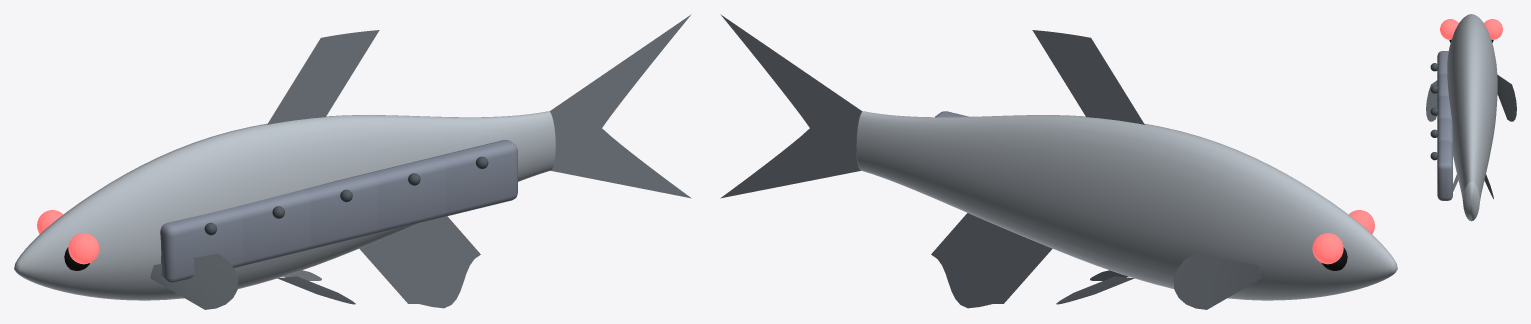
The model's file is robotfish.fbx.
The picture shows the model from 3 angles, left to right: view 1: azimuth 30°, elevation 25°; view 2: azimuth 150°, elevation 25°; view 3: azimuth 270°, elevation 25°; orthographic projection. The views are drawn at different scales.
Visible parts, largest first — view 1: RobotFish; view 2: RobotFish; view 3: RobotFish.
Boxes of the visible parts, bbox=[...] form: RobotFish: bbox=[14, 14, 691, 309]; RobotFish: bbox=[720, 14, 1397, 309]; RobotFish: bbox=[1426, 14, 1516, 221].
Size of the model in its own units: 1 by 0.1731 by 0.4237.
